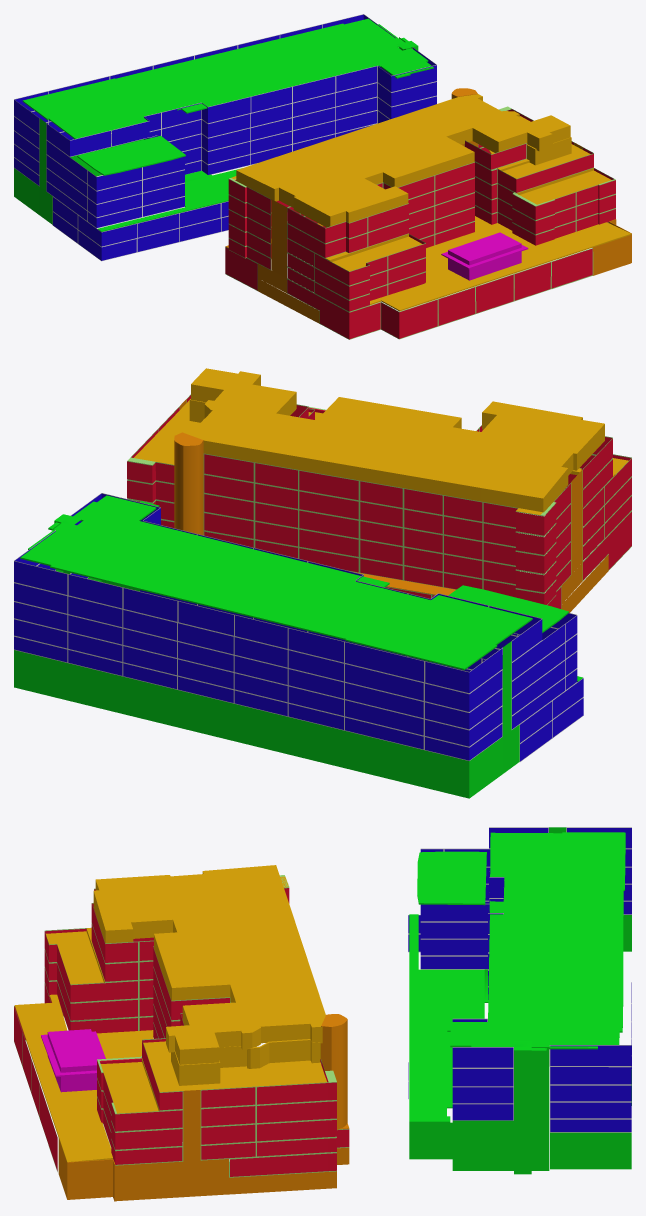
File: loft_13_04.glb
3 views of the same model, one above another, from view 1: azimuth 30°, elevation 25°; view 2: azimuth 150°, elevation 25°; view 3: azimuth 270°, elevation 25° (orthographic). The views are drawn at different scales.
Visible parts, largest first — view 1: SM_Roof_02, SM_Roof_01, Build1_Divider_01, Build2_Divider_01, Build1_Divider_01.001, SM_birdHhouse_01, Build1_Part_13, Build1_Part_09, Build1_Part_01, Build2_Divider_01.003, Build1_Part_42, SM_Hole_01 (+71 smaller); view 2: SM_Roof_02, SM_Roof_01, Build2_Divider_01.003, Build2_Divider_01, Build1_Divider_01, Build1_Divider_01.001, Build1_Part_48, Build2_Part_70, Build2_Part_65, Build1_Part_49, Build1_Part_50, Build1_Part_51 (+79 smaller); view 3: SM_Roof_02, SM_Roof_01, SM_Hole_01, Build2_Divider_01.003, Build1_Divider_01, Build2_Divider_01.001, Build1_Divider_01.001, SM_birdHhouse_01, Build2_Divider_01, Build1_Part_59, SM_Roof_03, Build2_Part_100 (+30 smaller).
Boxes of the visible parts, x1=… form: SM_Roof_02: x1=231, y1=94, x2=631, y2=311; SM_Roof_01: x1=22, y1=18, x2=433, y2=231; Build1_Divider_01: x1=225, y1=106, x2=615, y2=339; Build2_Divider_01: x1=14, y1=14, x2=436, y2=261; Build1_Divider_01.001: x1=257, y1=88, x2=582, y2=323; SM_birdHhouse_01: x1=441, y1=232, x2=528, y2=280; Build1_Part_13: x1=287, y1=279, x2=380, y2=339; Build1_Part_09: x1=381, y1=300, x2=437, y2=338; Build1_Part_01: x1=498, y1=148, x2=593, y2=192; Build2_Divider_01.003: x1=14, y1=139, x2=143, y2=224; Build1_Part_42: x1=287, y1=208, x2=367, y2=243; SM_Hole_01: x1=225, y1=219, x2=631, y2=275; SM_Roof_02: x1=134, y1=368, x2=628, y2=514; SM_Roof_01: x1=20, y1=495, x2=582, y2=681; Build2_Divider_01.003: x1=14, y1=577, x2=519, y2=798; Build2_Divider_01: x1=14, y1=493, x2=583, y2=761; Build1_Divider_01: x1=127, y1=394, x2=631, y2=608; Build1_Divider_01.001: x1=174, y1=399, x2=608, y2=612; Build1_Part_48: x1=483, y1=484, x2=570, y2=535; Build2_Part_70: x1=345, y1=642, x2=423, y2=681; Build2_Part_65: x1=425, y1=648, x2=502, y2=692; Build1_Part_49: x1=483, y1=504, x2=570, y2=554; Build1_Part_50: x1=483, y1=523, x2=570, y2=573; Build1_Part_51: x1=483, y1=542, x2=570, y2=592; SM_Roof_02: x1=14, y1=865, x2=328, y2=1162; SM_Roof_01: x1=409, y1=832, x2=625, y2=1122; SM_Hole_01: x1=58, y1=1123, x2=349, y2=1201; Build2_Divider_01.003: x1=452, y1=915, x2=631, y2=1170; Build1_Divider_01: x1=14, y1=875, x2=349, y2=1177; Build2_Divider_01.001: x1=514, y1=827, x2=566, y2=1174; Build1_Divider_01.001: x1=183, y1=1014, x2=347, y2=1161; SM_birdHhouse_01: x1=41, y1=1029, x2=105, y2=1092; Build2_Divider_01: x1=408, y1=827, x2=631, y2=1132; Build1_Part_59: x1=230, y1=1129, x2=349, y2=1176; SM_Roof_03: x1=409, y1=1122, x2=452, y2=1159; Build2_Part_100: x1=550, y1=1045, x2=631, y2=1065.
Size of the model in its own units: 108 by 28.52 by 114.
